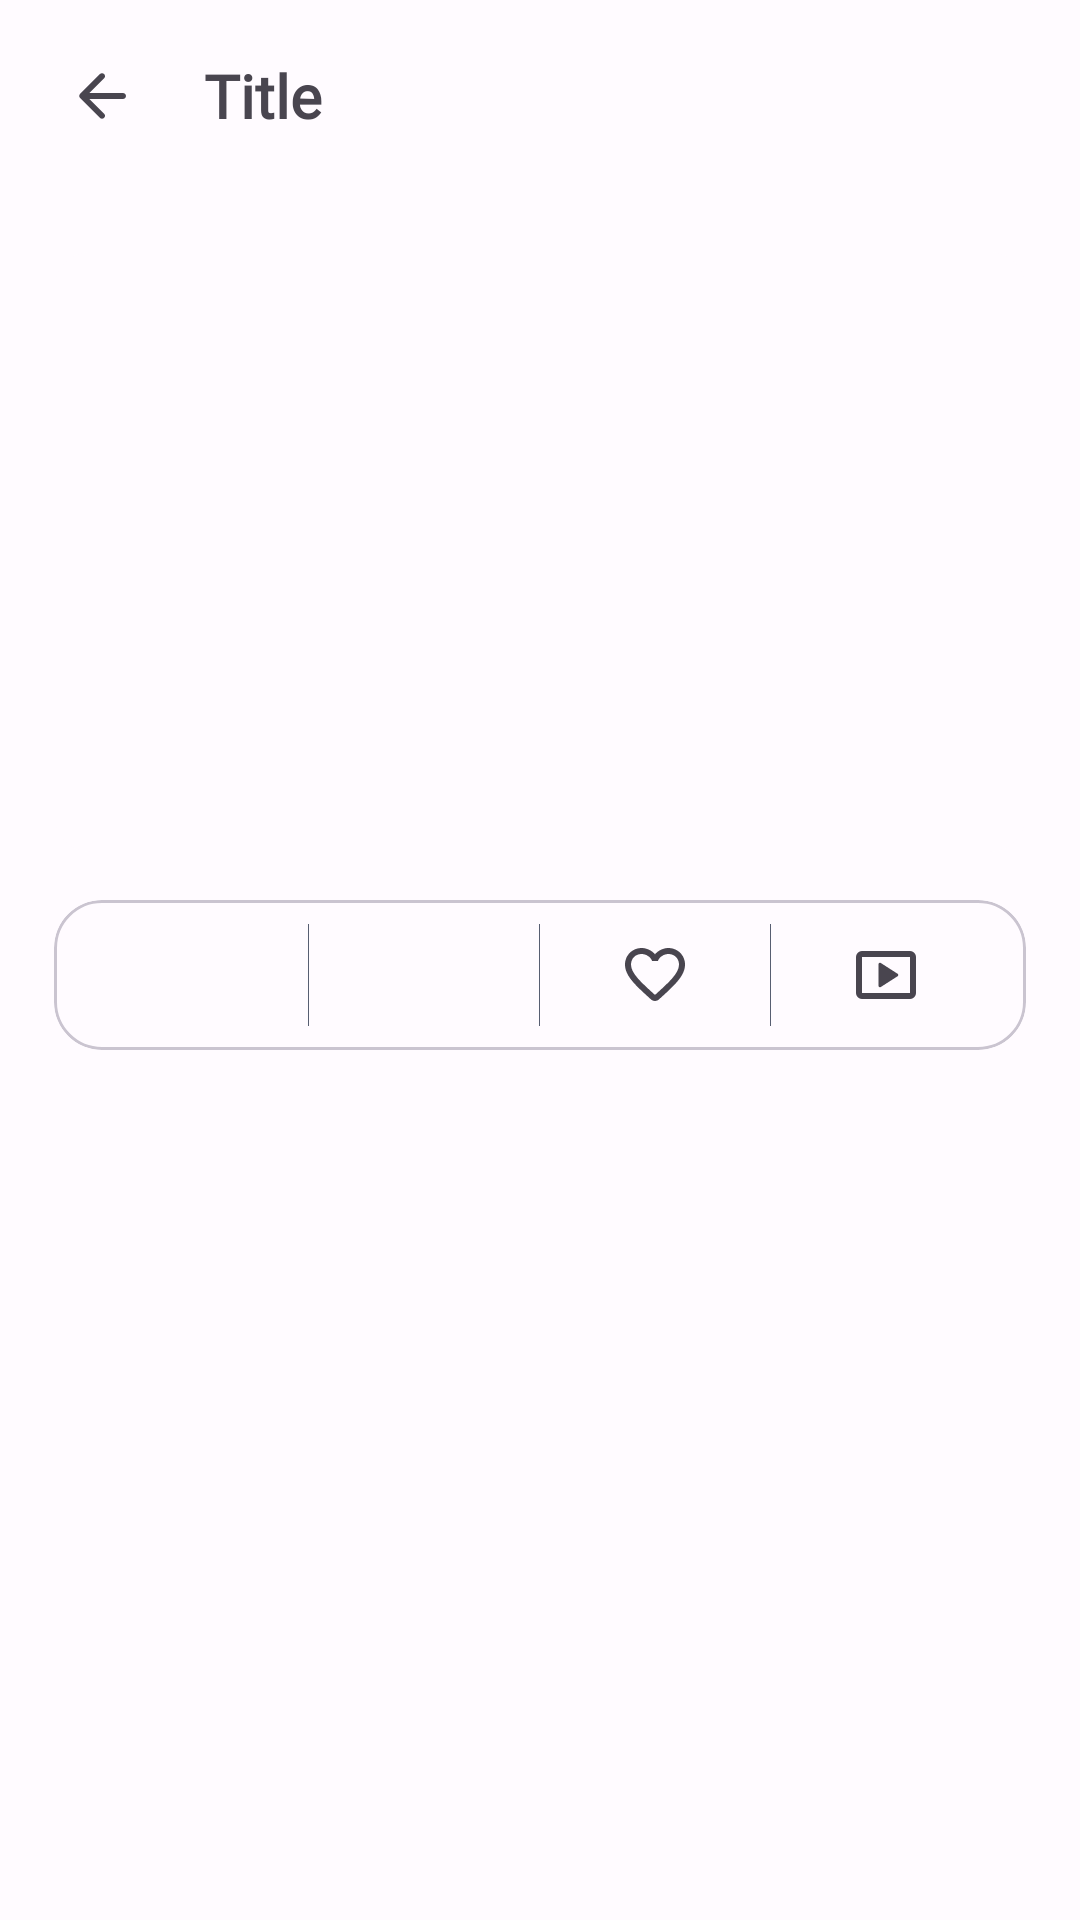

Screen size 1080 × 1920. Icon name, then its box in pixels as Rect(x1, y1, x2, y2):
arrow back: Rect(79, 73, 126, 119)
